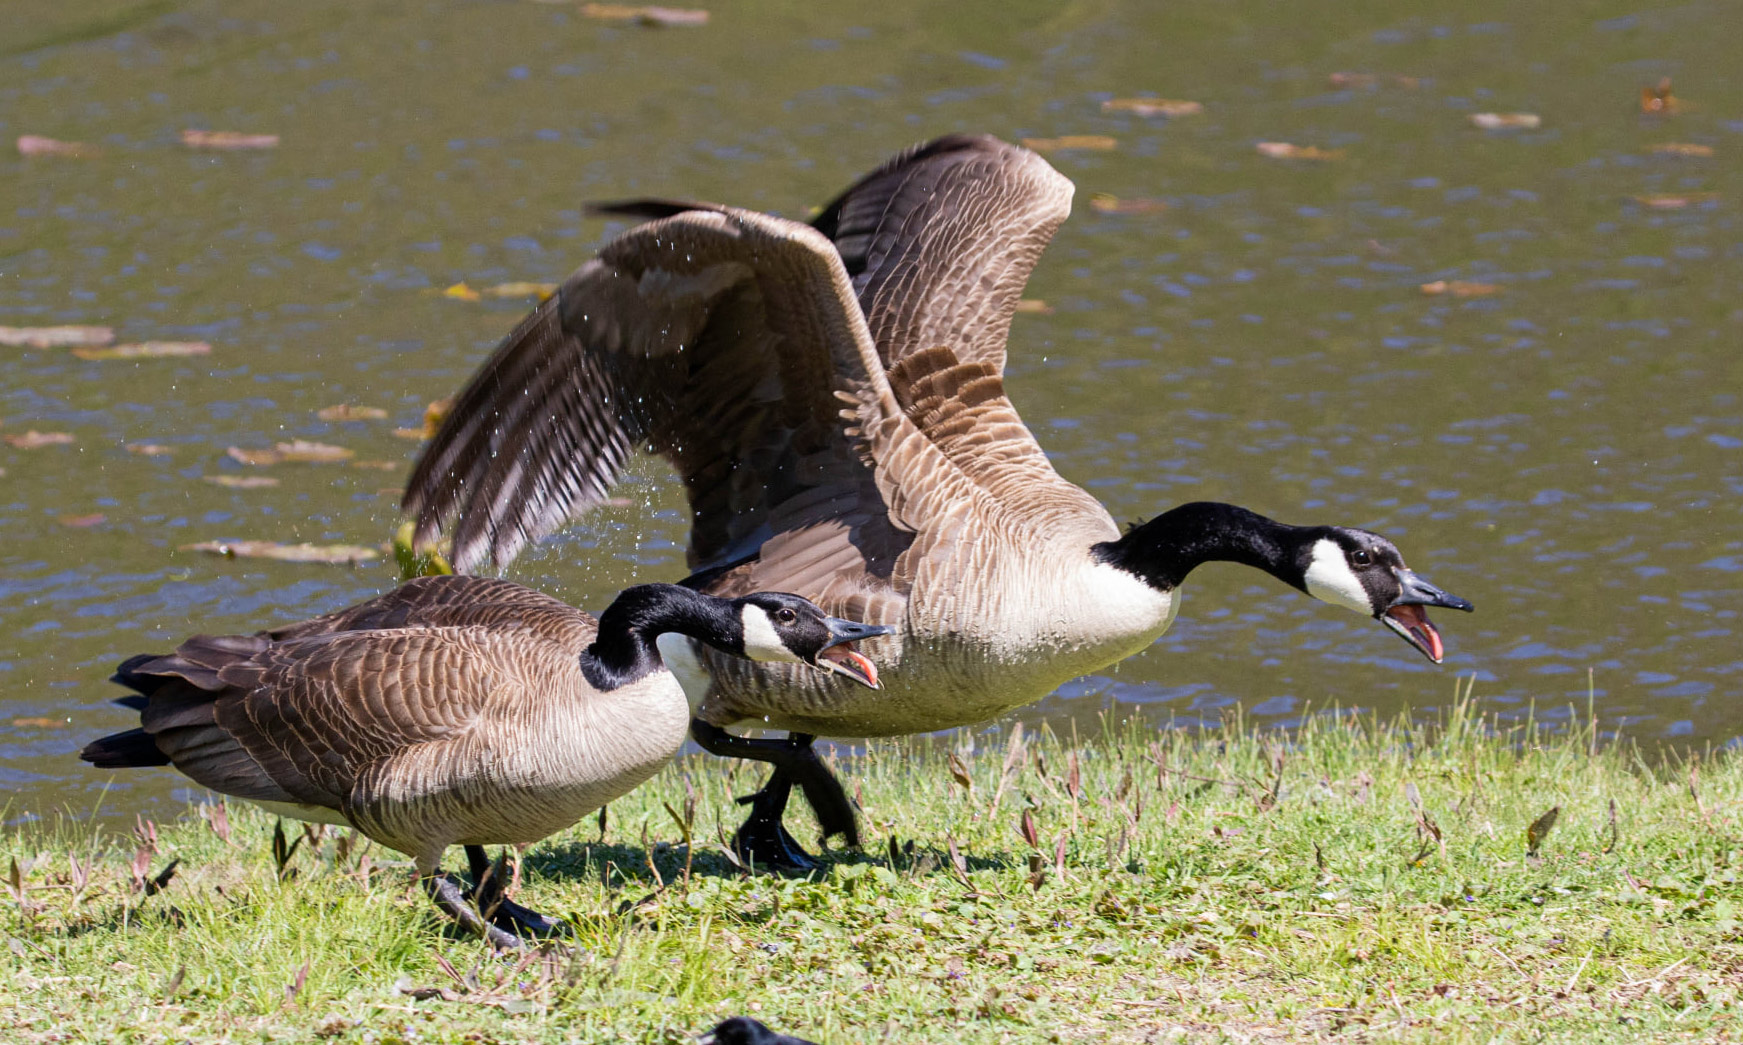goose: (77, 578, 895, 938)
